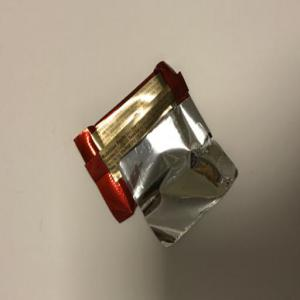Trash: (73, 60, 239, 249)
